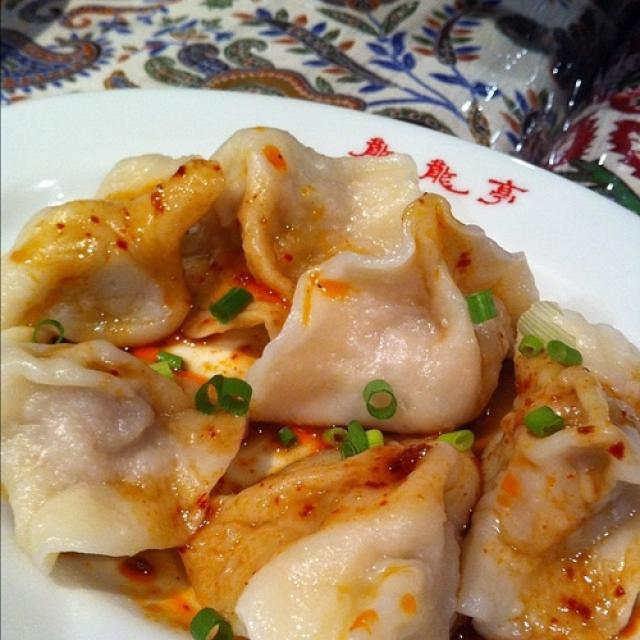带馅早点: (9, 69, 626, 616)
